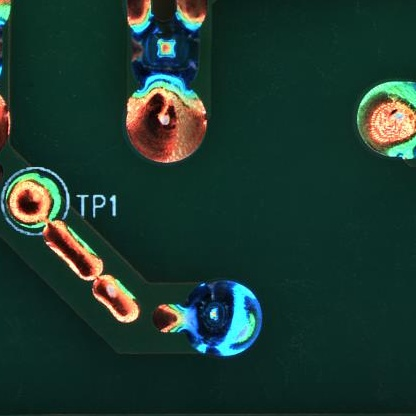spot: (185, 279, 261, 362), (129, 23, 202, 77)
